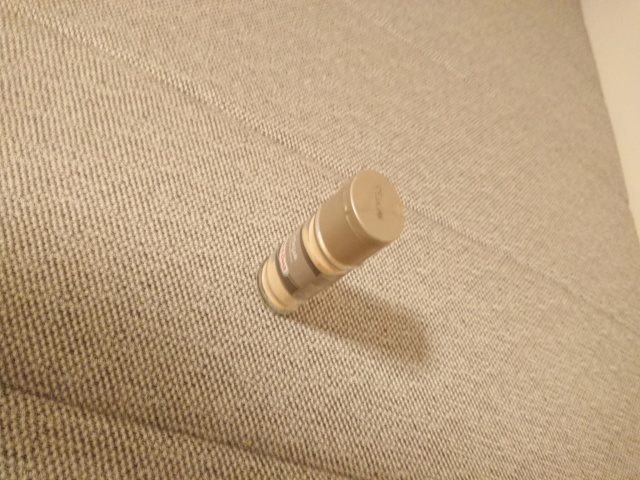Kotanyi Garlic Granules 70g: (255, 168, 407, 320)
